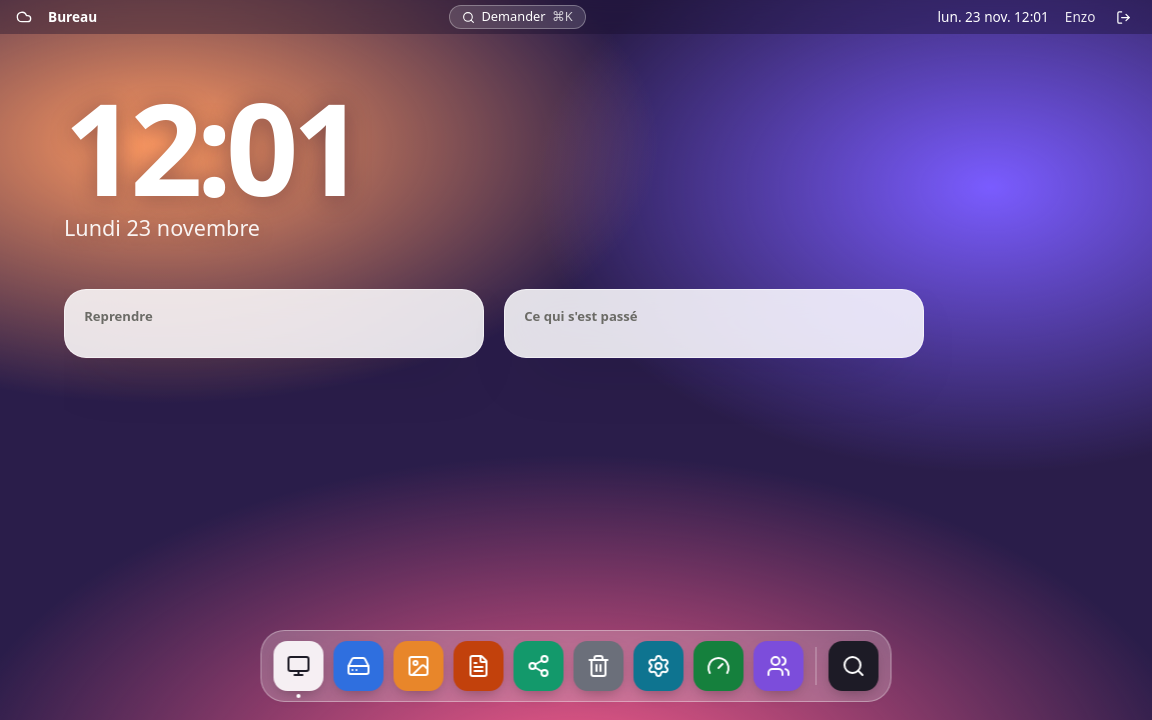
Test: Desktop › opens apps in windows from the dock, with the address of the front one
Check: the element named "Bureau" is shown, box [64,61,924,358]
Click the button named "Fichiers" at (358,666), box [334,641,384,691]
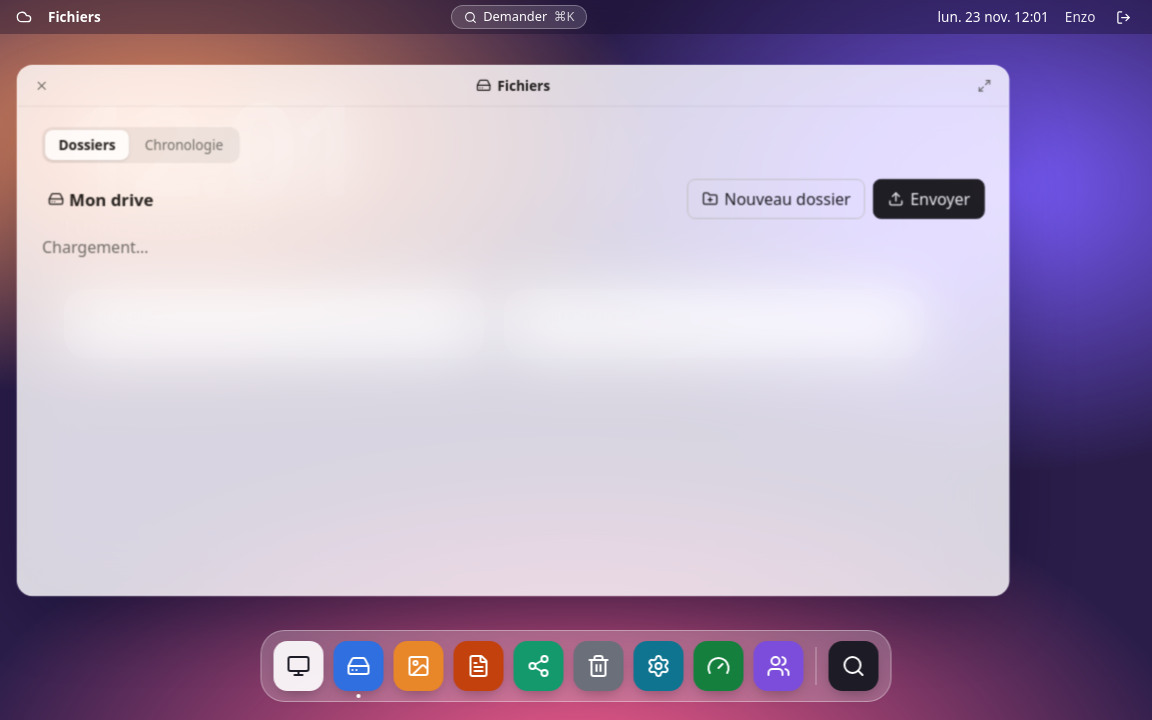
Click the button named "Corbeille" at (598,666), box [574,641,624,691]
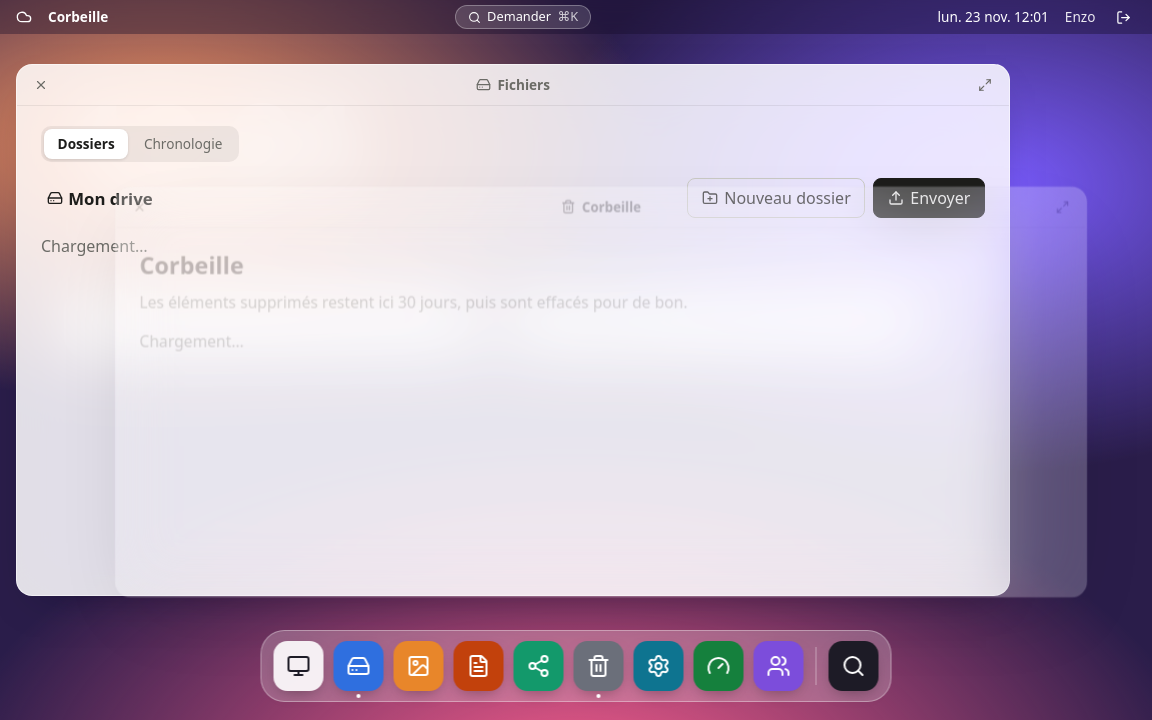
Check: the element "Fichiers" is shown
Click the button named "Fichiers" at (358,666), box [334,641,384,691]
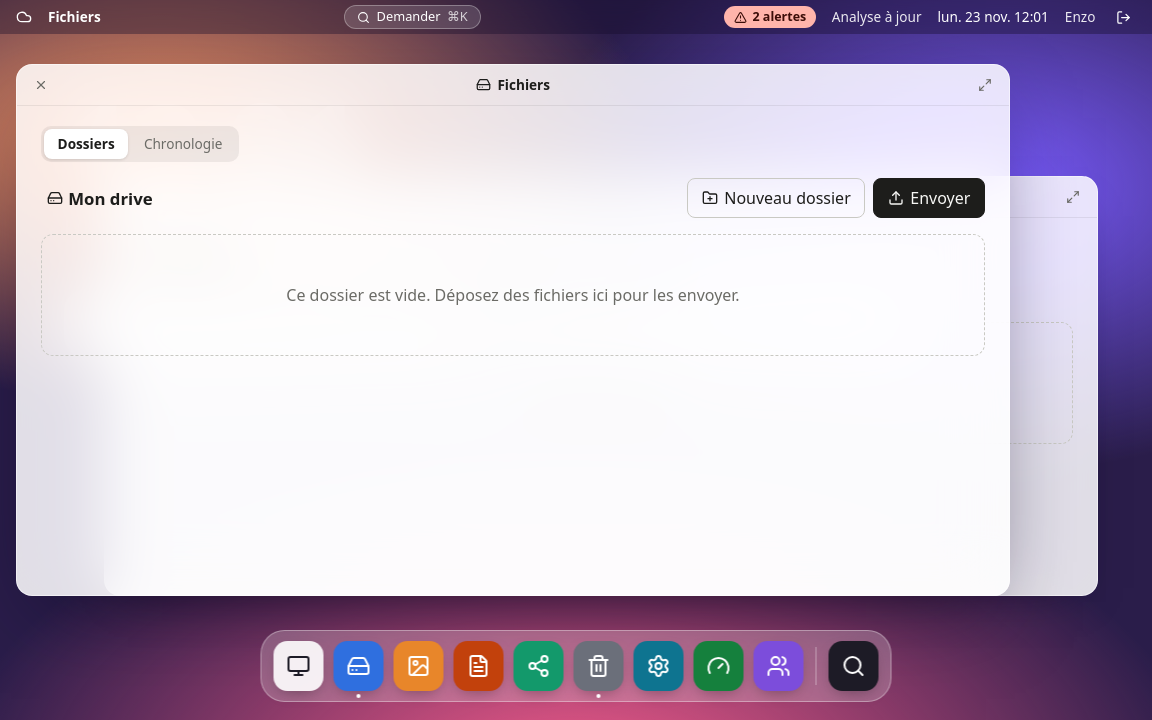
Check: the element "Fichiers" has class "front"
